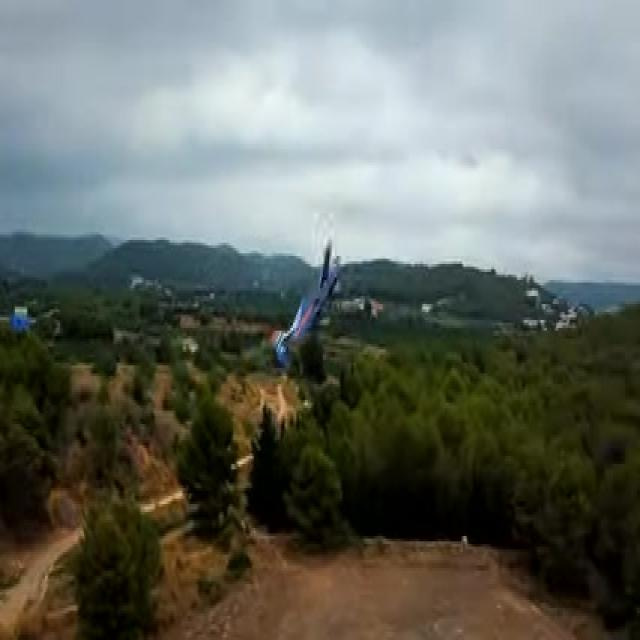iha: (307, 242, 311, 370)
